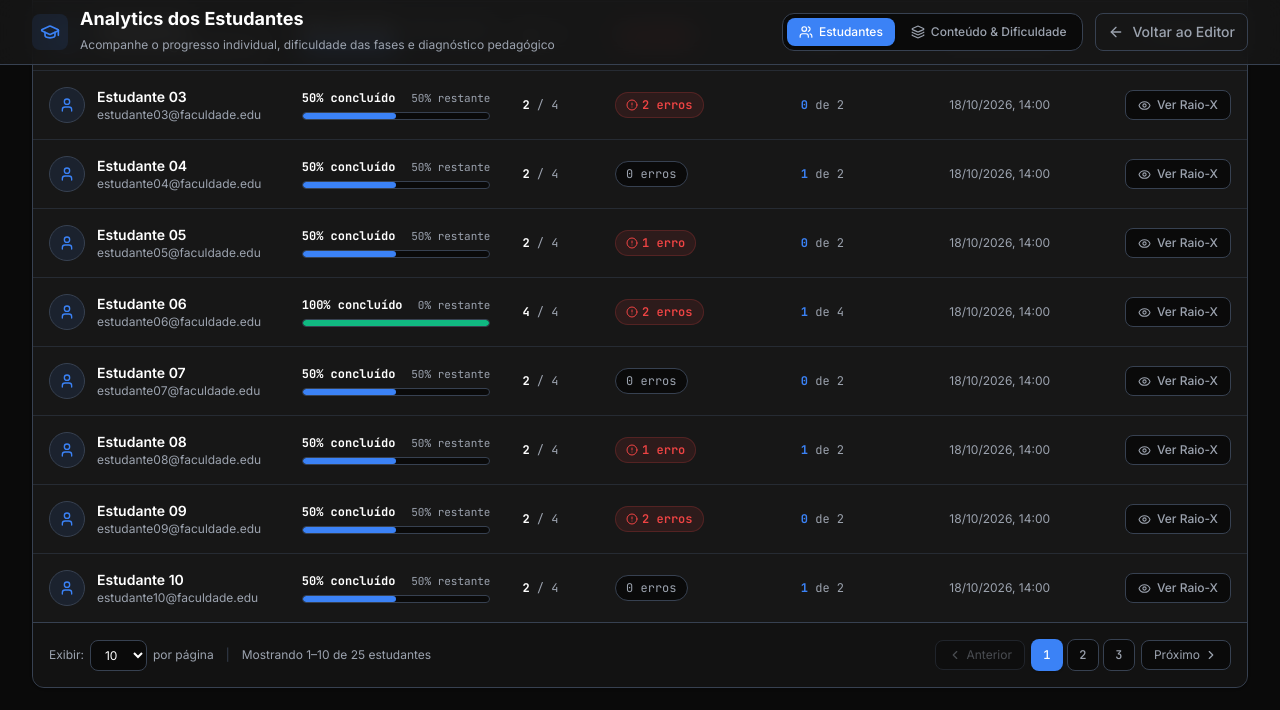
Test case: StudentAnalytics Dashboard - Paginação e Performance (SPEC-009 v2.10.0) › deve resetar automaticamente para a página 1 ao buscar por texto ou alterar filtro de status
(page scrolled)
# Navega para a página 2
Click the button "Próximo" at (1186, 655), box [1141,640,1231,670]
(page scrolled)
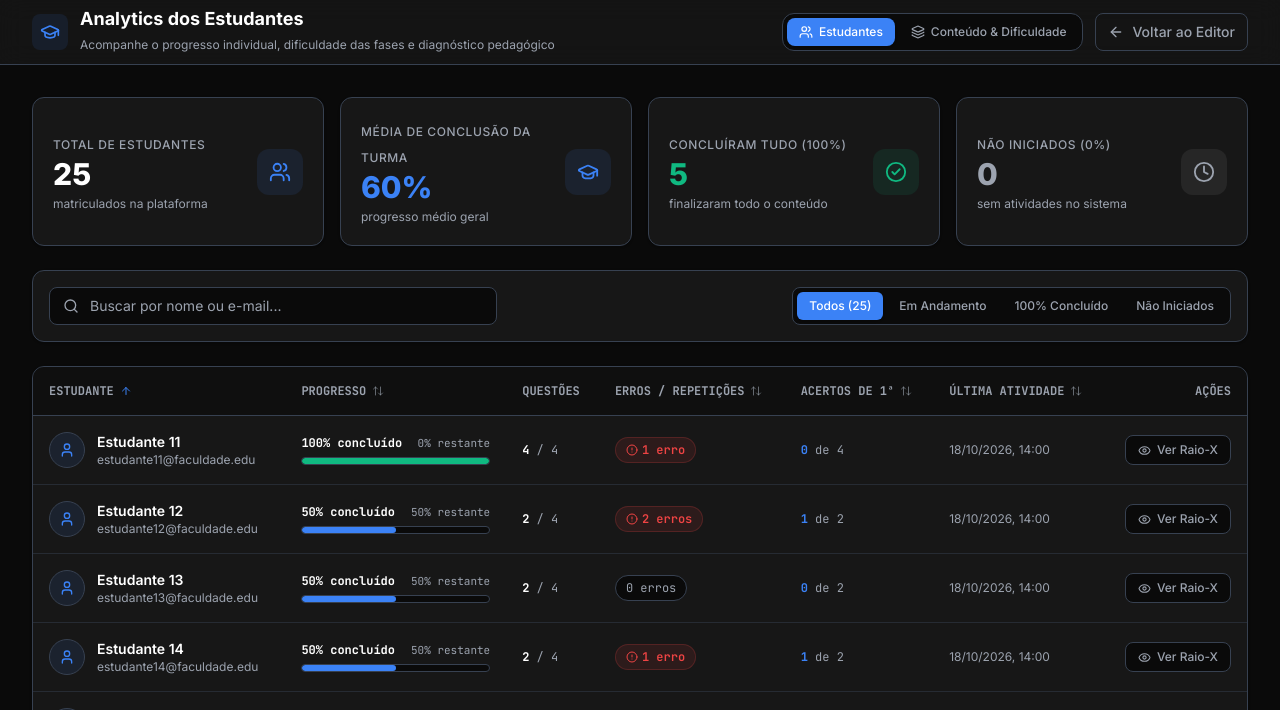
Now the text "Estudante 11" is shown, box [97,433,180,450]
# Digita no campo de busca
Type "Estudante 0" into the field with placeholder "Buscar por nome ou e-mail..." at (273, 306), box [49,287,497,325]
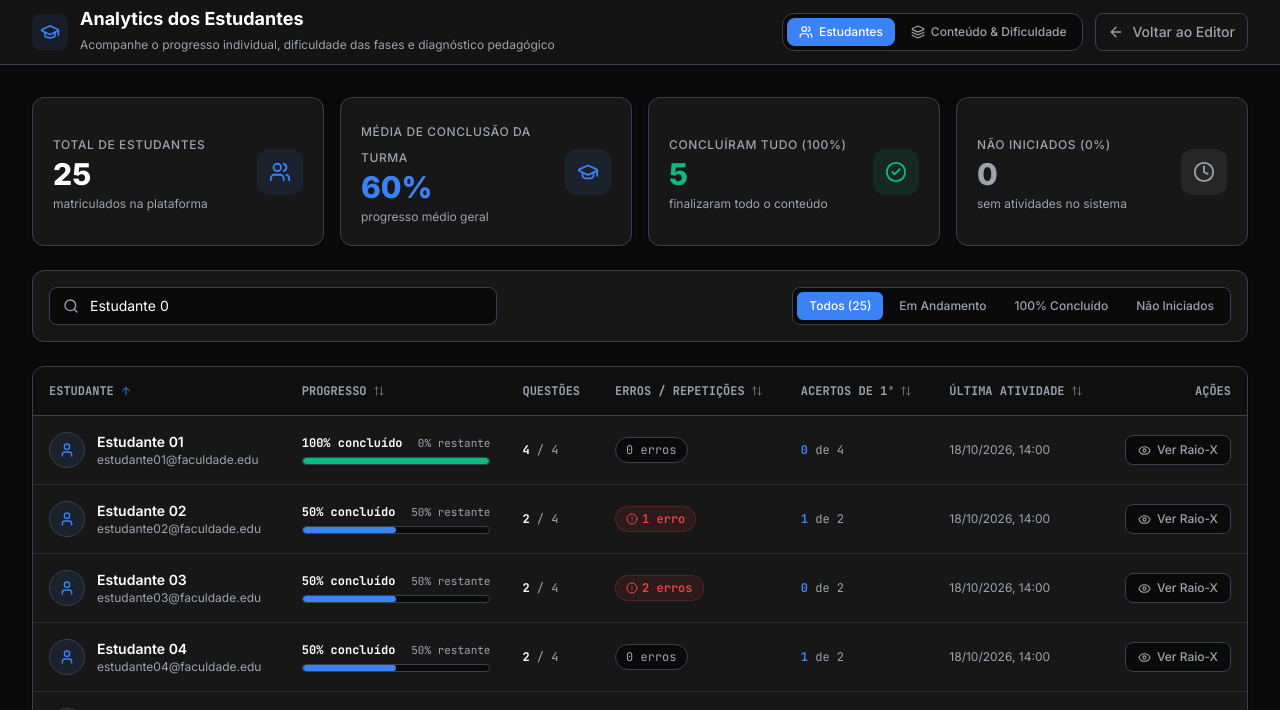
Now the text "Estudante 01" is shown, box [97,433,184,450]
